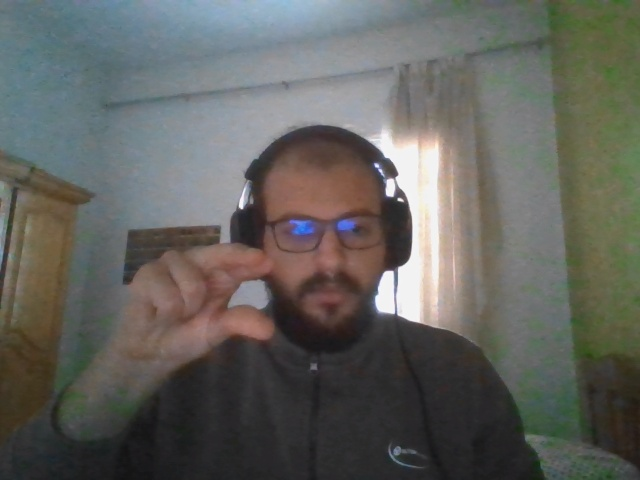No: (133, 249, 275, 362)
